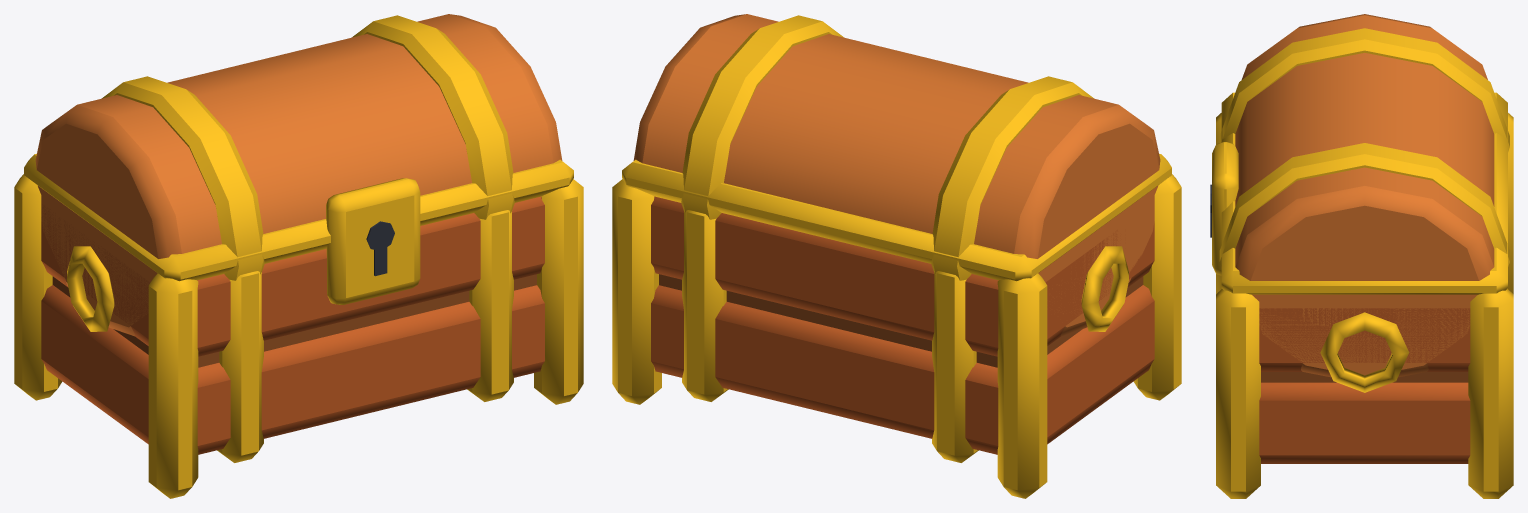
File: storage-chest.glb
3 views of the same model, side by side, from view 1: azimuth 30°, elevation 25°; view 2: azimuth 150°, elevation 25°; view 3: azimuth 270°, elevation 25° (orthographic). The views are drawn at different scales.
Visible parts, largest first — view 1: storage-chest; view 2: storage-chest; view 3: storage-chest.
Boxes of the visible parts, x1,y1,x2,y2 form: storage-chest: (14, 14, 583, 498); storage-chest: (612, 14, 1181, 498); storage-chest: (1210, 14, 1513, 498).
Size of the model in its own units: 1.25 by 0.9257 by 0.805.
